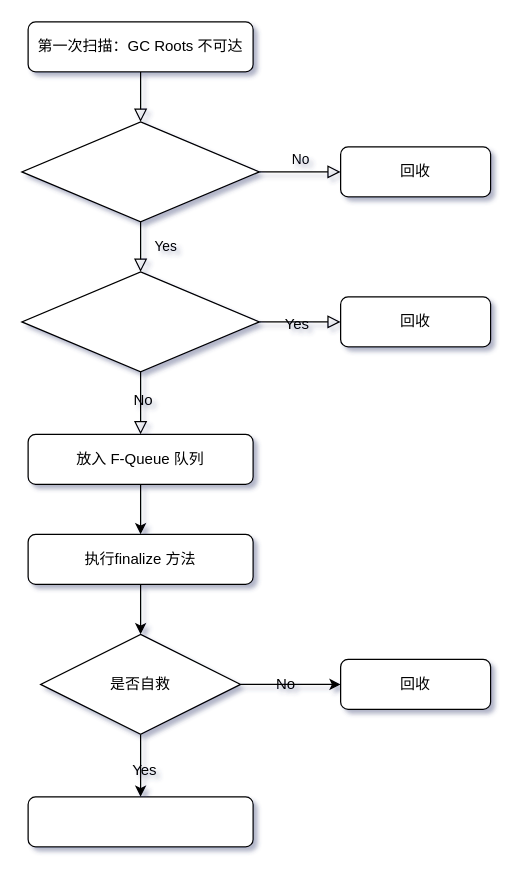
This 520x876 diagram has some shape labels left out. Each missing label, with the box of its shape:
finalize 方法被虚拟机执行过: (21, 271, 259, 372)
第二次扫描：移出 F-Queue: (27, 796, 253, 847)
重写 finalize 方法: (21, 121, 259, 222)
